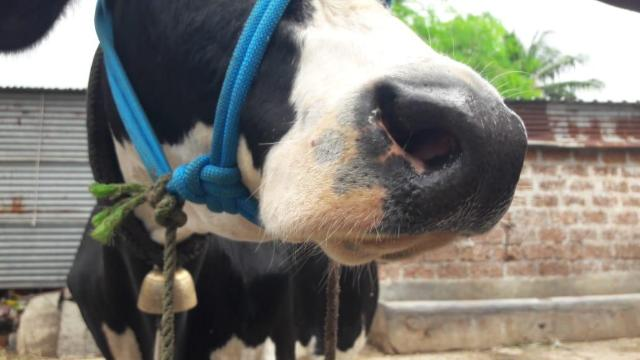Muzzle: (419, 82, 523, 224)
